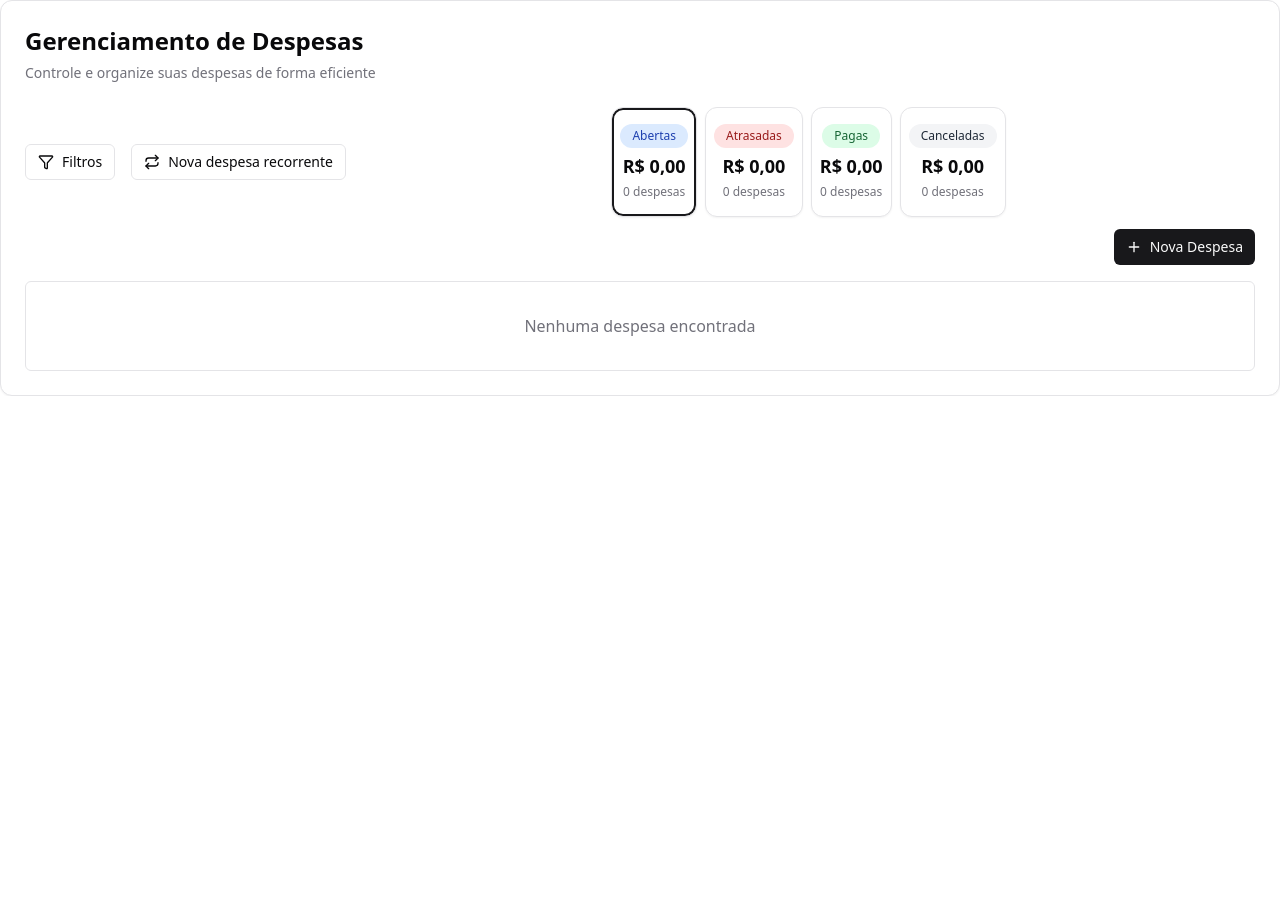
Test case: Despesa › FilterModal › should open FilterModal when filter button is clicked
Click the button with test id "filter-button": click(70, 162) [25, 144, 115, 180]
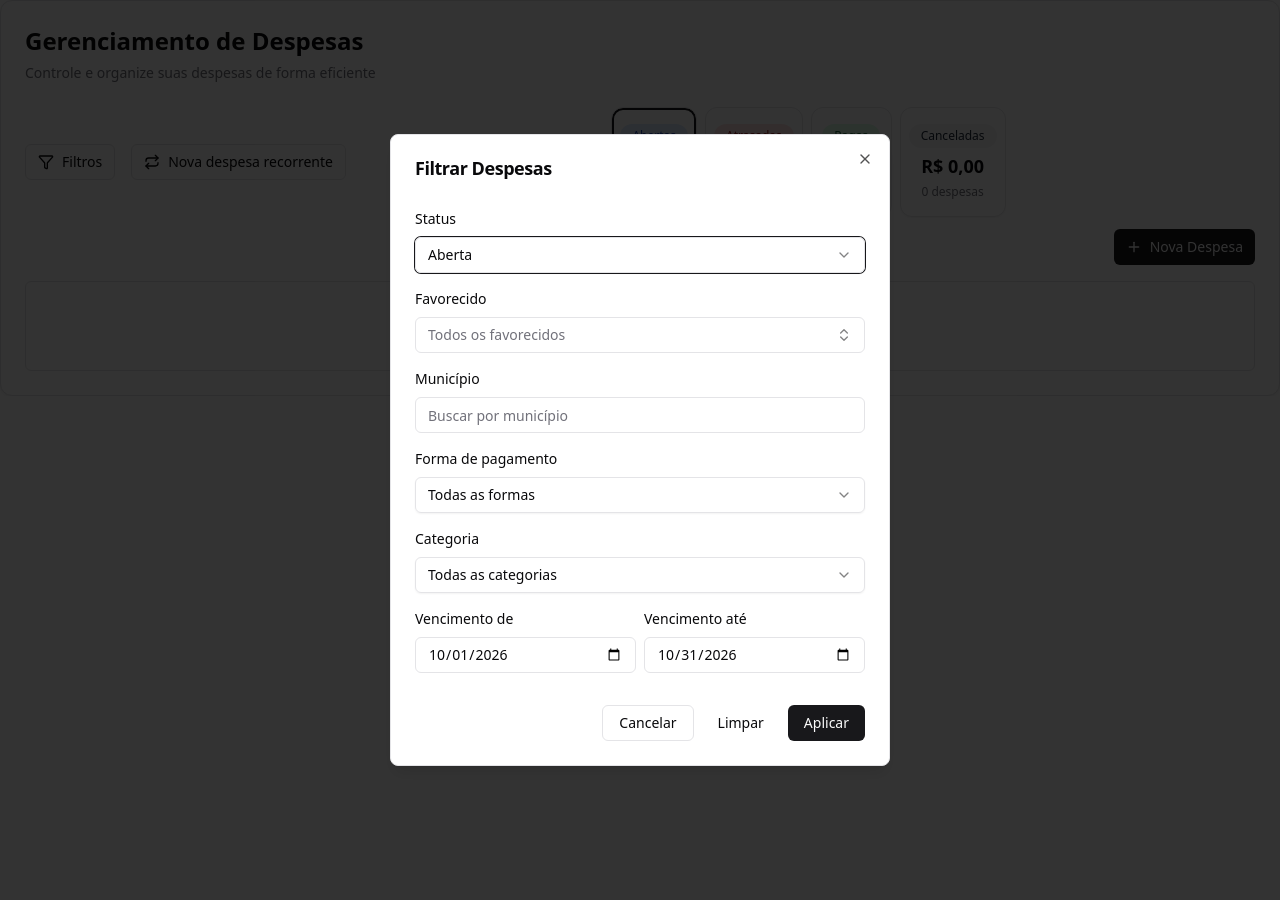
expect the heading "Filtrar Despesas" is shown: met, box [415, 156, 552, 180]
